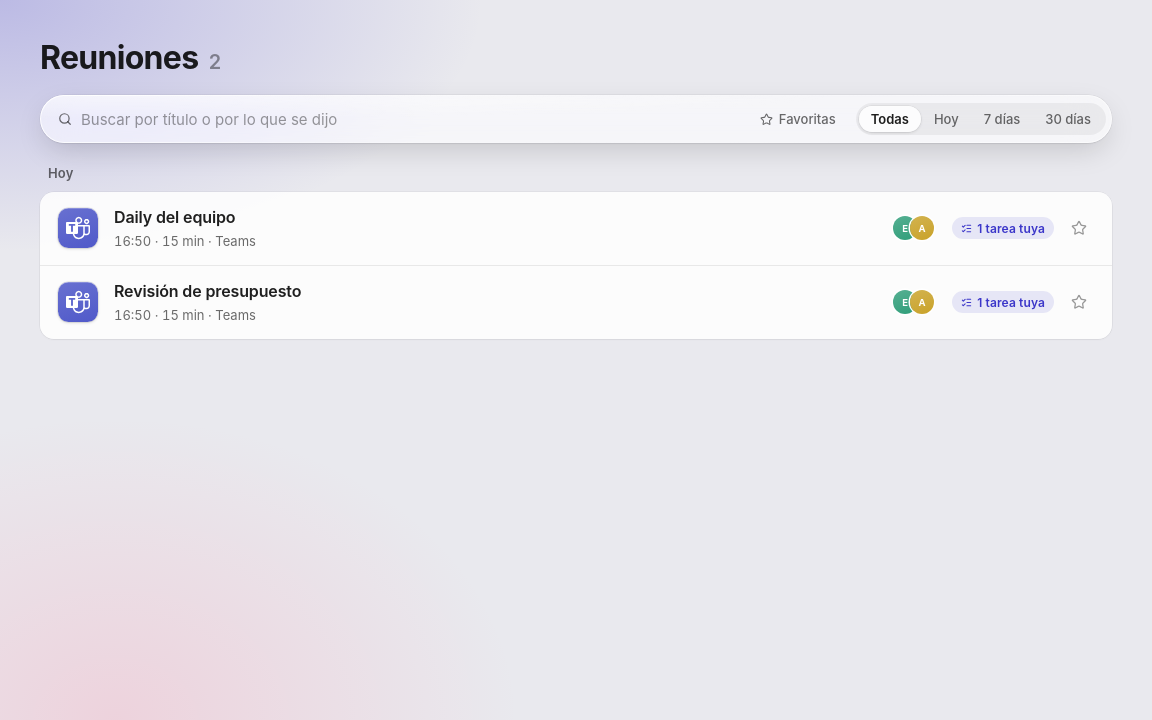
Test: MeetingListContainer › filtra por texto
This screenshot has width=1152, height=720.
Expected: the text "Revisión de presupuesto" is shown, x1=114 y1=281 x2=301 y2=301
Type "presupuesto" into the search field named "Buscar reuniones" at point(404, 119), box x1=81 y1=101 x2=728 y2=137
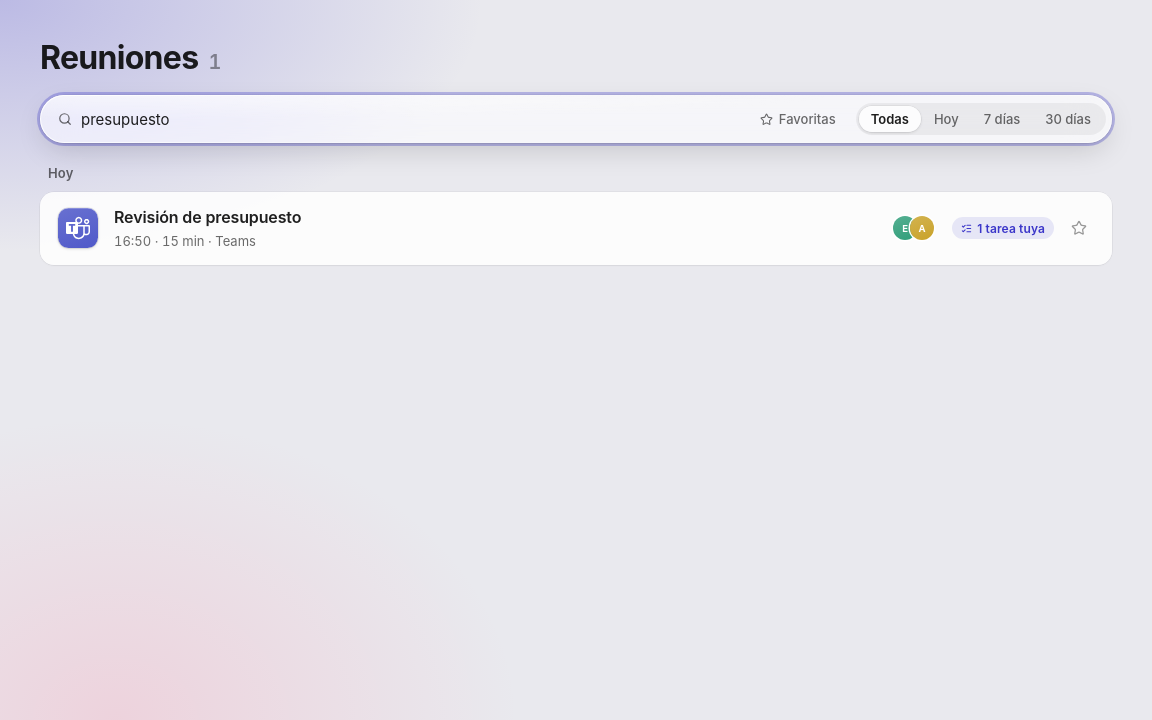
Expected: the text "Revisión de presupuesto" is shown, x1=114 y1=207 x2=301 y2=227
Expected: the button "Daily del equipo" is gone
